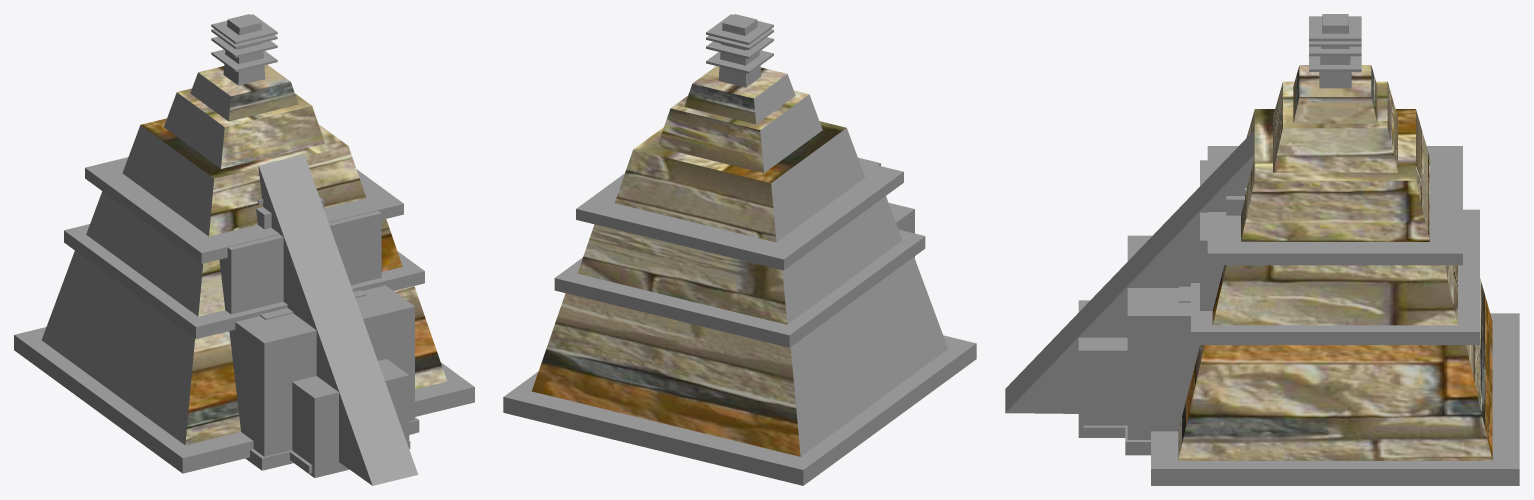
File: Pyramide.obj
The picture shows the model from 3 angles, left to right: view 1: azimuth 30°, elevation 25°; view 2: azimuth 150°, elevation 25°; view 3: azimuth 270°, elevation 25°; orthographic projection. The views are drawn at different scales.
Parts seen in each view (by area): view 1: Cube.026_Cube.006; view 2: Cube.026_Cube.006; view 3: Cube.026_Cube.006.
Boxes of the visible parts, box(x1,y1,x2,y2) form: Cube.026_Cube.006: box(14, 14, 474, 485); Cube.026_Cube.006: box(503, 14, 976, 485); Cube.026_Cube.006: box(1005, 14, 1519, 485).
Size of the model in its own units: 8.35 by 9.87 by 11.65.
19 materials, 5 textured.
